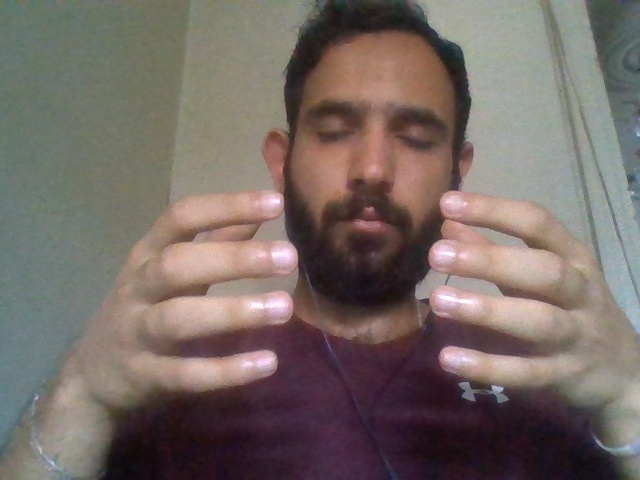Story: (136, 144, 587, 456)
